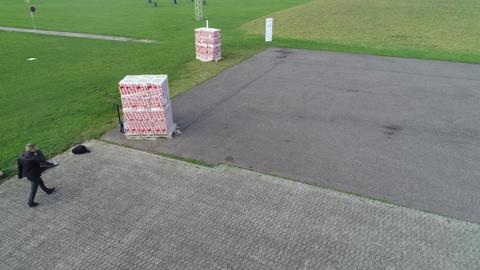RockwoolPallet: (196, 26, 221, 60)
